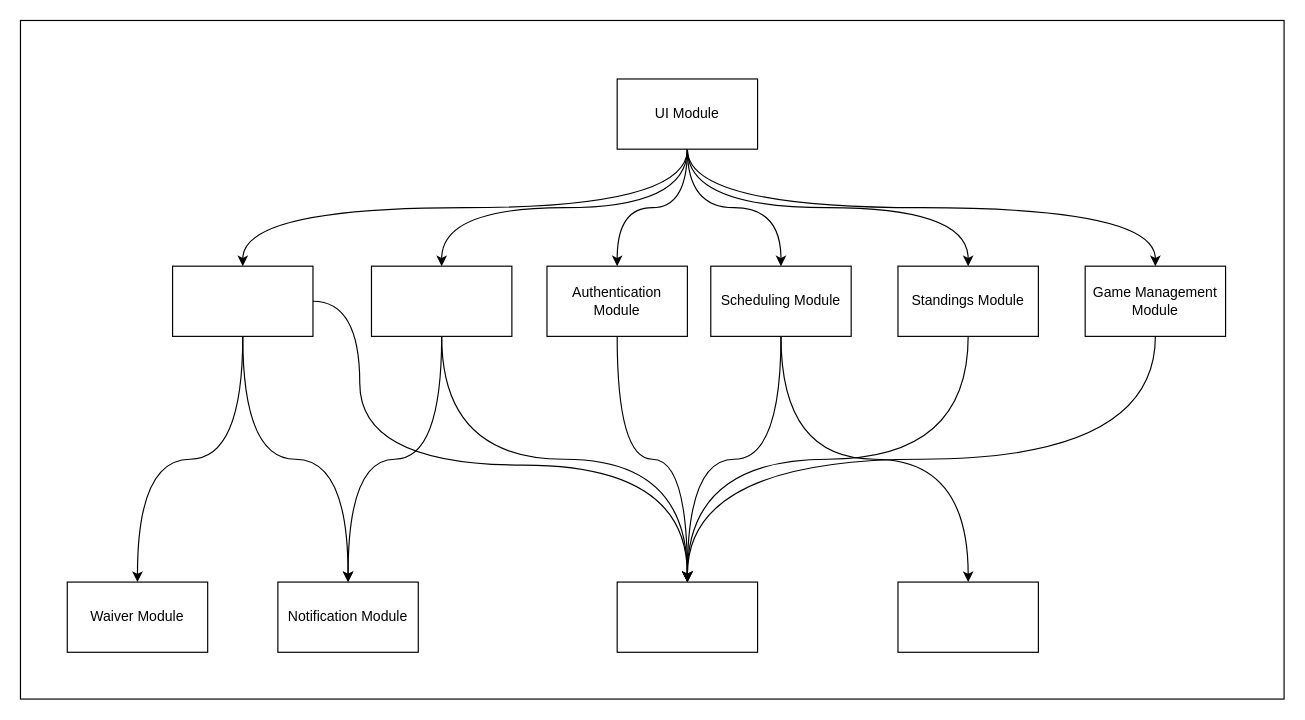
Some shapes in this 1305 by 720 pixel diagram are drawn without their labels. Here are the shapes that lost their labels. From the top down, the centre of each, then its label:
(x=242, y=300): Team Management Module
(x=441, y=300): Announcements Module
(x=687, y=616): Backend Module
(x=967, y=616): Scheduling Algorithm Module
